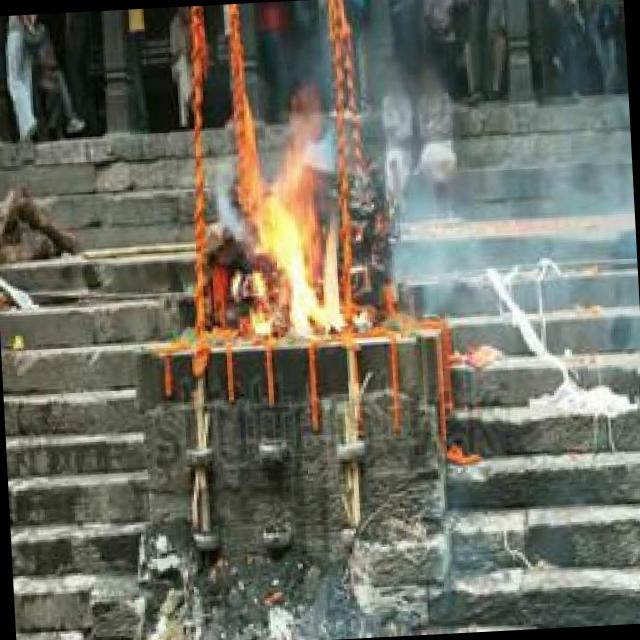Fire: (235, 110, 351, 338)
